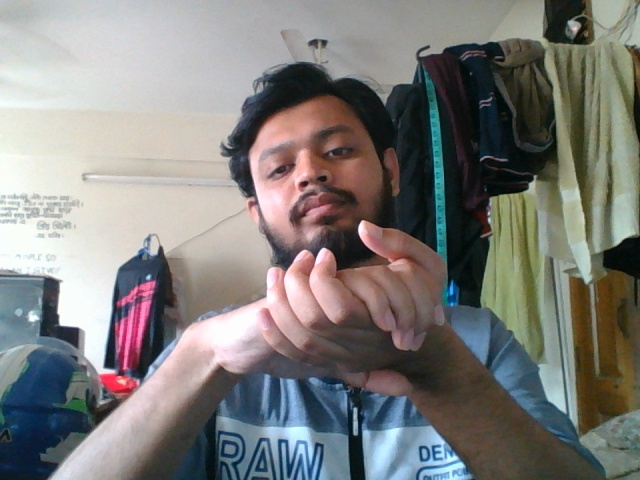bondhu: (137, 213, 568, 417)
